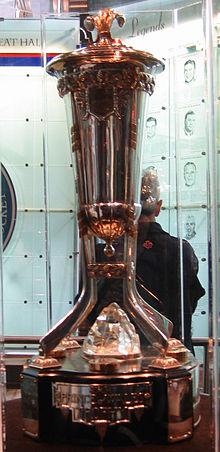trophy: (16, 7, 198, 444)
